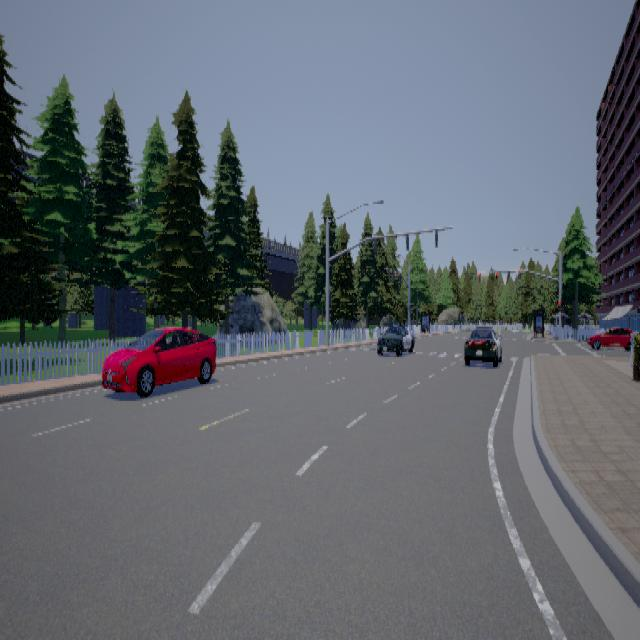red_light: (478, 271, 481, 281), (558, 300, 560, 310), (496, 271, 498, 281), (518, 269, 520, 278)
vehicle: (101, 325, 216, 396), (463, 325, 501, 366), (376, 322, 414, 355), (586, 325, 632, 350)
